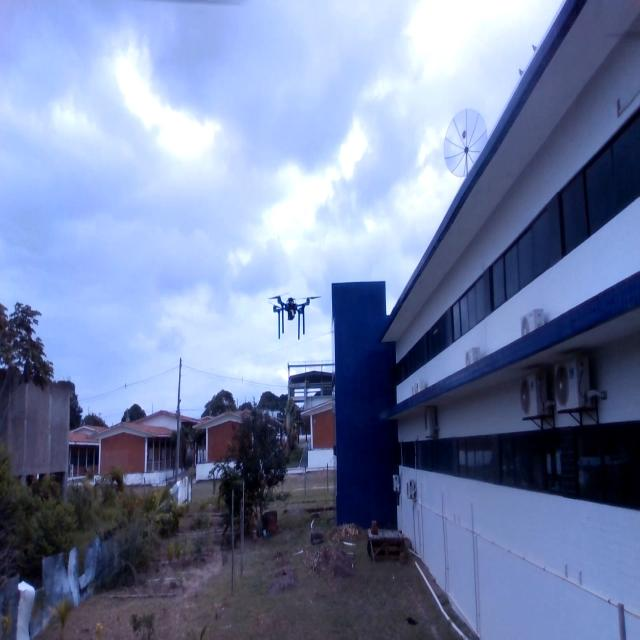-uav-: (265, 280, 327, 348)
